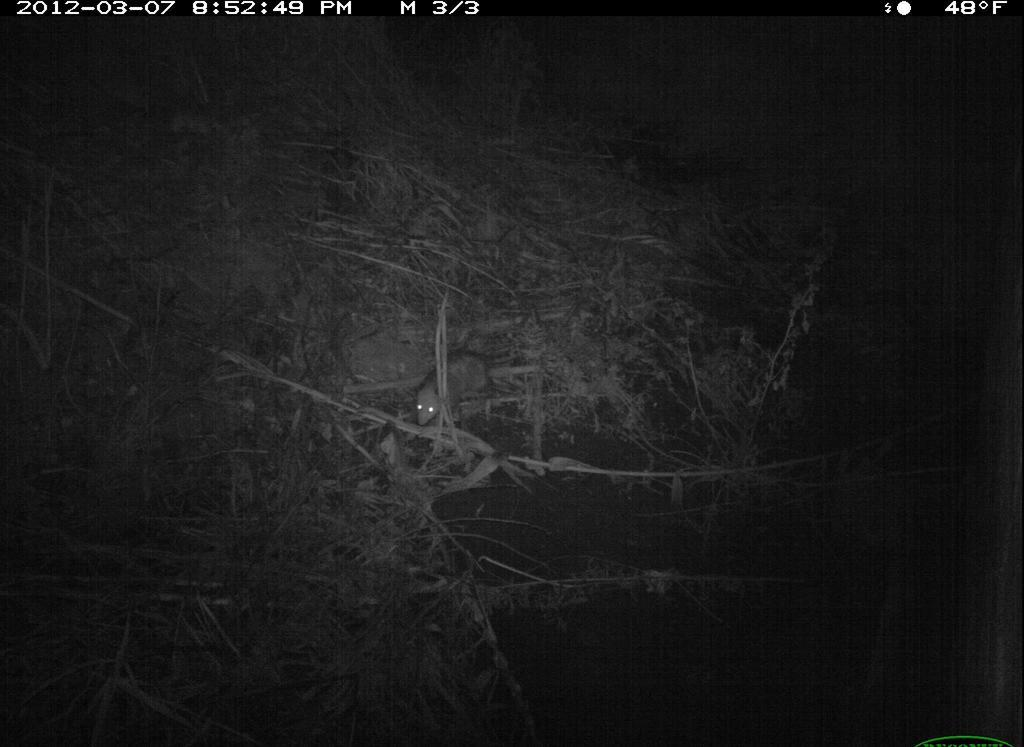opossum: (395, 326, 523, 495)
